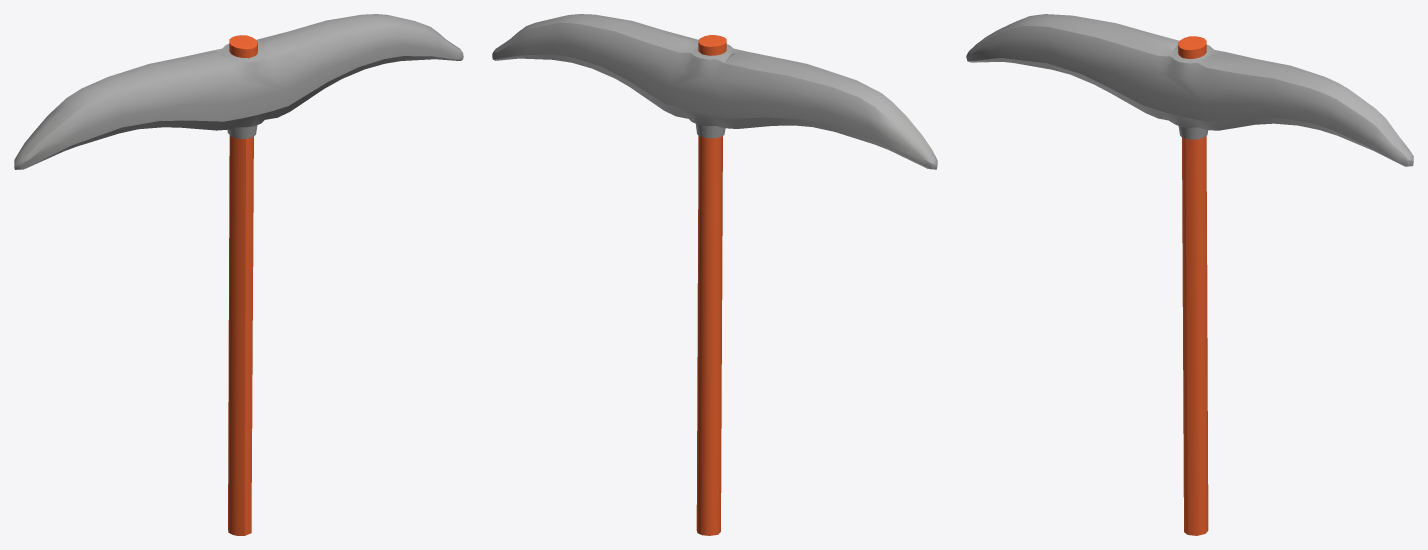
Rendered from Picareta.fbx.
The picture shows the model from 3 angles, left to right: view 1: azimuth 30°, elevation 25°; view 2: azimuth 150°, elevation 25°; view 3: azimuth 330°, elevation 25°; orthographic projection.
Parts seen in each view (by area): view 1: Picareta; view 2: Picareta; view 3: Picareta.
Part boxes in pixels (bbox=[...]): Picareta: bbox=[14, 14, 463, 535]; Picareta: bbox=[492, 14, 937, 535]; Picareta: bbox=[966, 14, 1413, 535].
Size of the model in its own units: 365 by 384 by 45.15.
Materials: 1 (1 with a texture image).
